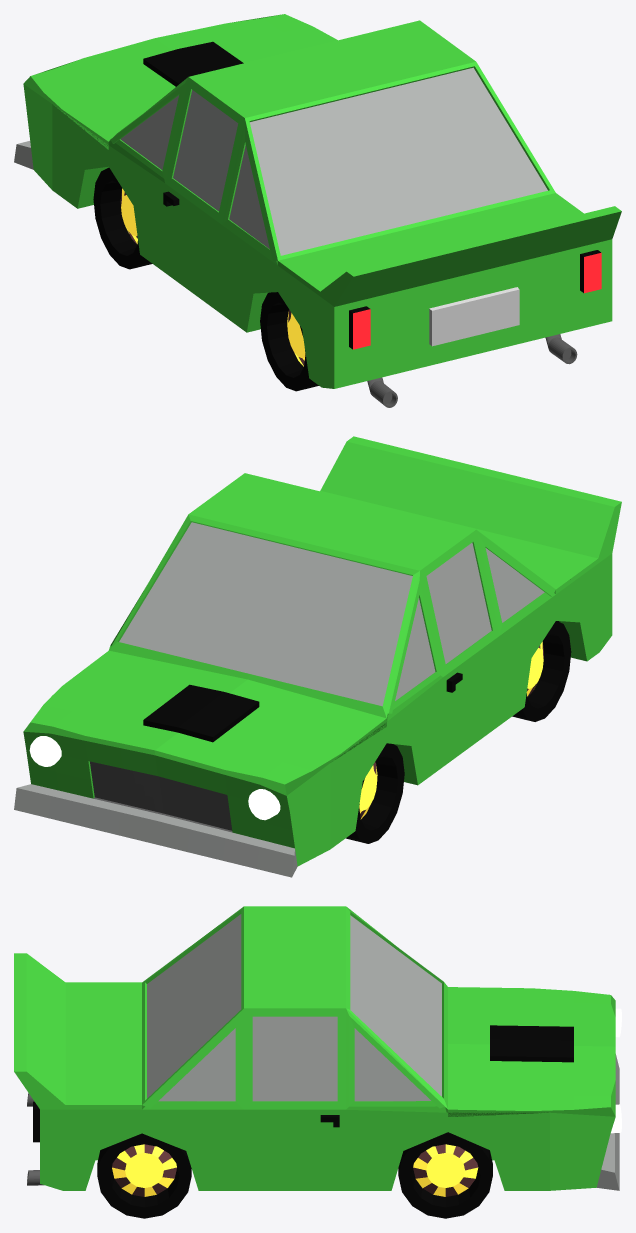
The model's file is automodel2.glb.
3 views of the same model, one above another, from view 1: azimuth 30°, elevation 25°; view 2: azimuth 150°, elevation 25°; view 3: azimuth 270°, elevation 25° (orthographic). The views are drawn at different scales.
Parts seen in each view (by area): view 1: Cube, Cylinder, Cube.002, Cube.001, Cylinder.002; view 2: Cube, Cylinder, Cylinder.001; view 3: Cube, Cylinder.
Part boxes in pixels (x1,y1,x2,y2): Cube: (14,14,621,388); Cylinder: (93,167,318,391); Cube.002: (429,287,519,346); Cube.001: (349,250,601,349); Cylinder.002: (367,334,577,407); Cube: (14,436,621,877); Cylinder: (346,621,571,843); Cylinder.001: (29,736,280,820); Cube: (14,906,619,1190); Cylinder: (97,1132,492,1218).
Bounding box in the file's own units: 6.63 × 4.95 × 13.36.
